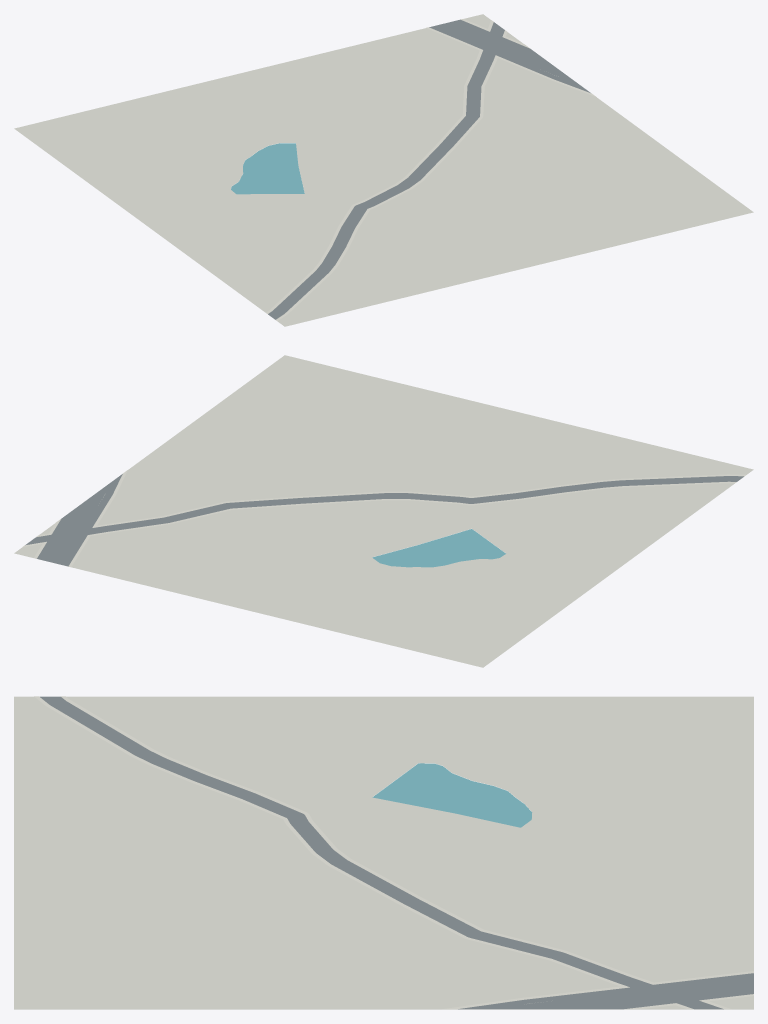
3 renders of one model, top to bottom at view 1: azimuth 30°, elevation 25°; view 2: azimuth 150°, elevation 25°; view 3: azimuth 270°, elevation 25°, orthographic. The views are drawn at different scales.
Parts seen in each view (by area): view 1: city; view 2: city; view 3: city.
Boxes of the visible parts, box(x1,y1,x2,y2) form: city: box(14, 14, 753, 326); city: box(14, 355, 753, 667); city: box(14, 696, 753, 1009).
Size of the model in its own units: 500 by 0.4 by 500.
